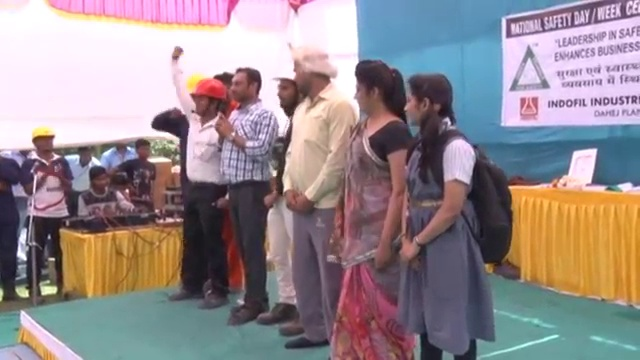helmet: (189, 77, 229, 101), (270, 62, 298, 84), (31, 127, 57, 142)
helmet_off: (348, 62, 402, 126), (404, 69, 459, 125), (292, 47, 333, 94), (227, 69, 262, 111), (88, 167, 109, 199), (132, 138, 151, 168), (73, 145, 90, 164)
helmet_on: (188, 78, 228, 128), (271, 67, 299, 120), (31, 127, 57, 163)
person: (392, 65, 513, 360), (273, 46, 354, 348), (337, 62, 403, 360), (213, 68, 284, 330), (165, 52, 232, 305), (21, 131, 73, 310), (78, 165, 141, 231), (0, 150, 26, 305), (109, 140, 157, 220), (63, 142, 95, 193), (100, 140, 134, 185)
